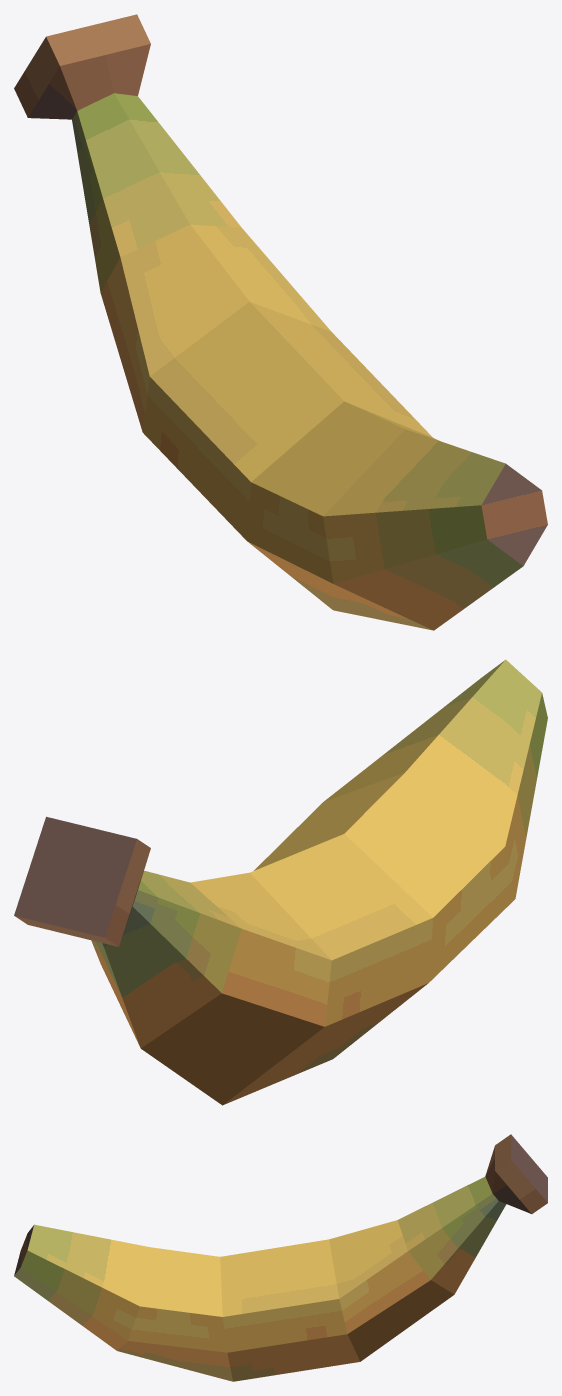
File: banana.fbx
The picture shows the model from 3 angles, top to bottom: view 1: azimuth 30°, elevation 25°; view 2: azimuth 150°, elevation 25°; view 3: azimuth 270°, elevation 25°; orthographic projection. The views are drawn at different scales.
Parts seen in each view (by area): view 1: Banana; view 2: Banana; view 3: Banana.
Part boxes in pixels (x1,y1,x2,y2): Banana: (14, 14, 547, 630); Banana: (14, 659, 547, 1105); Banana: (14, 1134, 547, 1381).
Size of the model in its own units: 18.75 by 40.16 by 82.74.
Materials: 1 (1 with a texture image).
